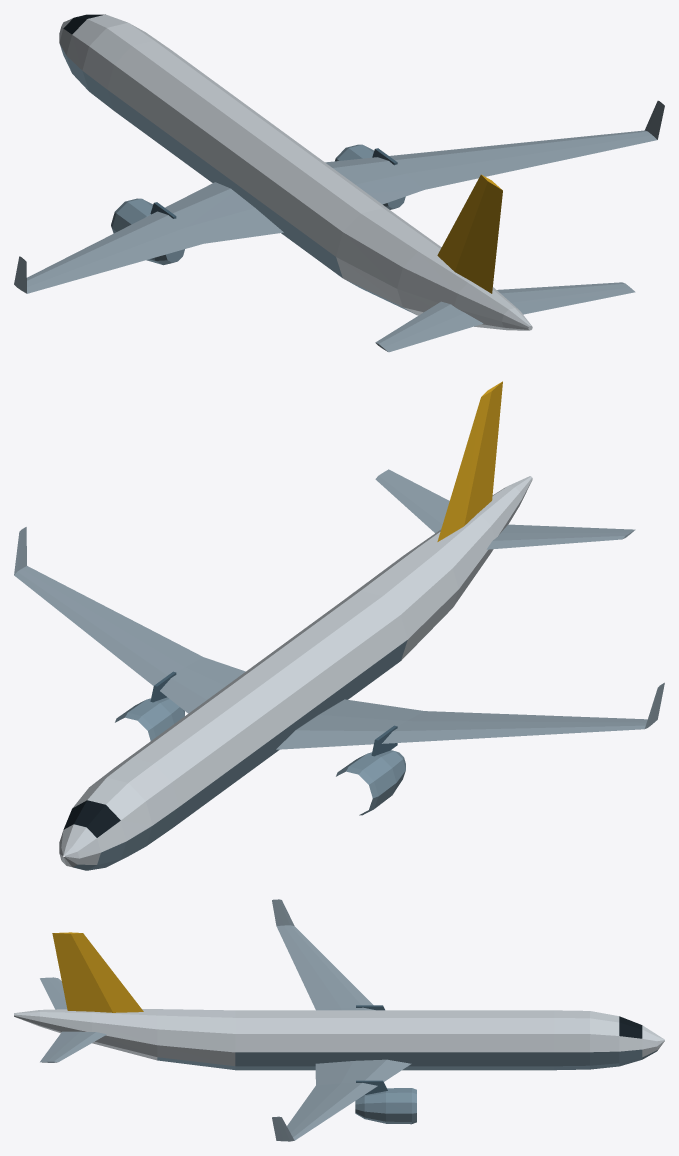
The picture shows the model from 3 angles, top to bottom: view 1: azimuth 30°, elevation 25°; view 2: azimuth 150°, elevation 25°; view 3: azimuth 270°, elevation 25°; orthographic projection. The views are drawn at different scales.
Visible parts, largest first — view 1: lod0; view 2: lod0; view 3: lod0.
Part boxes in pixels (x1,y1,x2,y2): lod0: [14, 14, 664, 352]; lod0: [14, 381, 664, 870]; lod0: [14, 899, 664, 1141].
Size of what is drawn, in the model's own units: 0.7898 by 0.2561 by 1.
